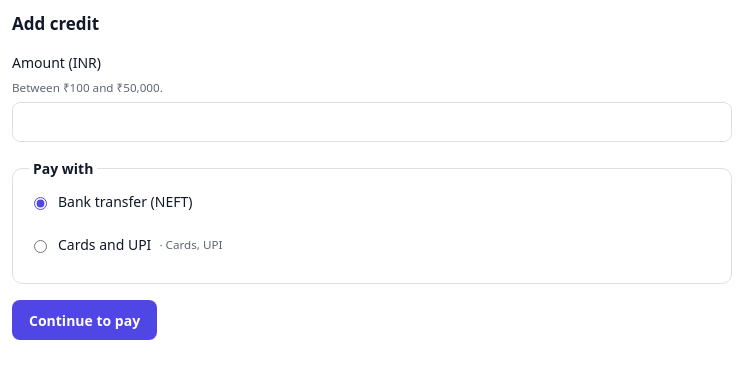
it: adding credit › shows the backend's word on a refused amount
In the field labelled "Amount (INR)": (372, 122) x1=12 y1=102 x2=732 y2=142, type "50"
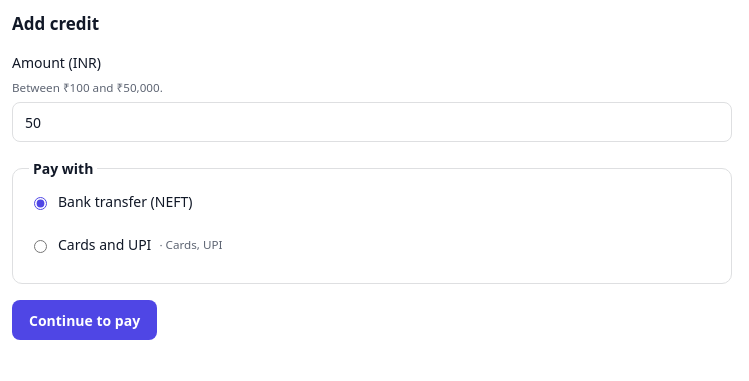
Click the button "Continue to pay": (85, 320) x1=12 y1=300 x2=157 y2=340
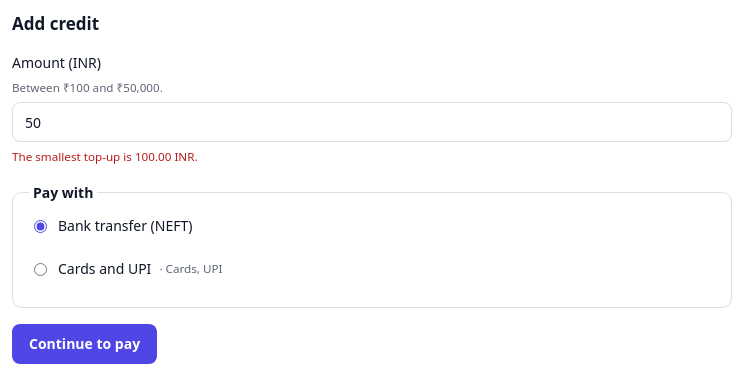
Expected: the text "The smallest top-up is 100.00 INR." is shown, x1=12 y1=149 x2=198 y2=164
